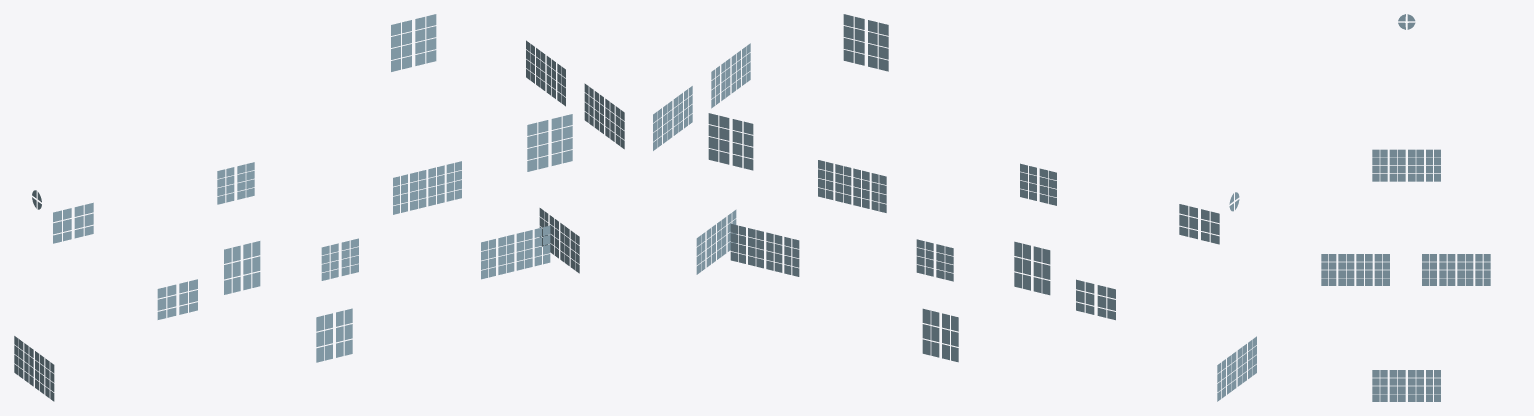
The model's file is FairyTale98.gltf.
The picture shows the model from 3 angles, left to right: view 1: azimuth 30°, elevation 25°; view 2: azimuth 150°, elevation 25°; view 3: azimuth 270°, elevation 25°; orthographic projection. The views are drawn at different scales.
Parts seen in each view (by area): view 1: HouseSM01_Glass; view 2: HouseSM01_Glass; view 3: HouseSM01_Glass.
Part boxes in pixels (x1,y1,x2,y2): HouseSM01_Glass: (14, 14, 624, 401); HouseSM01_Glass: (653, 14, 1256, 401); HouseSM01_Glass: (1321, 14, 1490, 401).
Size of the model in its own units: 13.07 by 4.88 by 5.72.
